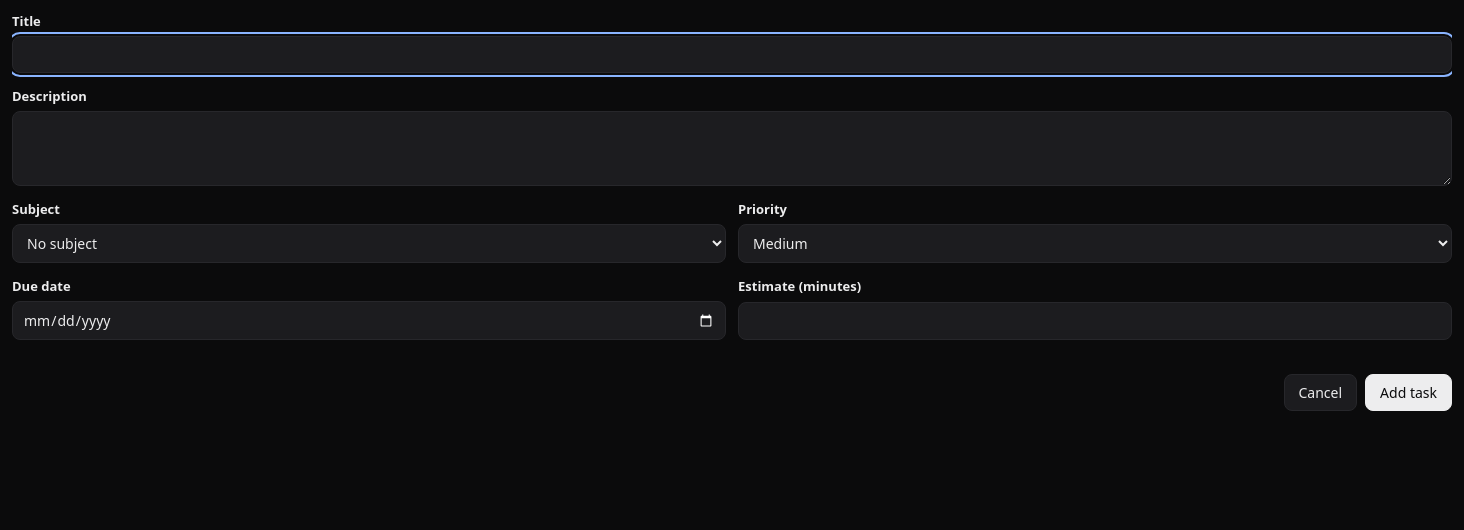
Test case: TaskForm: dependent subject/chapter dropdowns › explains when a subject has no chapters
This screenshot has width=1464, height=530.
Select "Empty subject" in the dropdown labelled "Subject" at [369, 244], box [12,224,726,263]
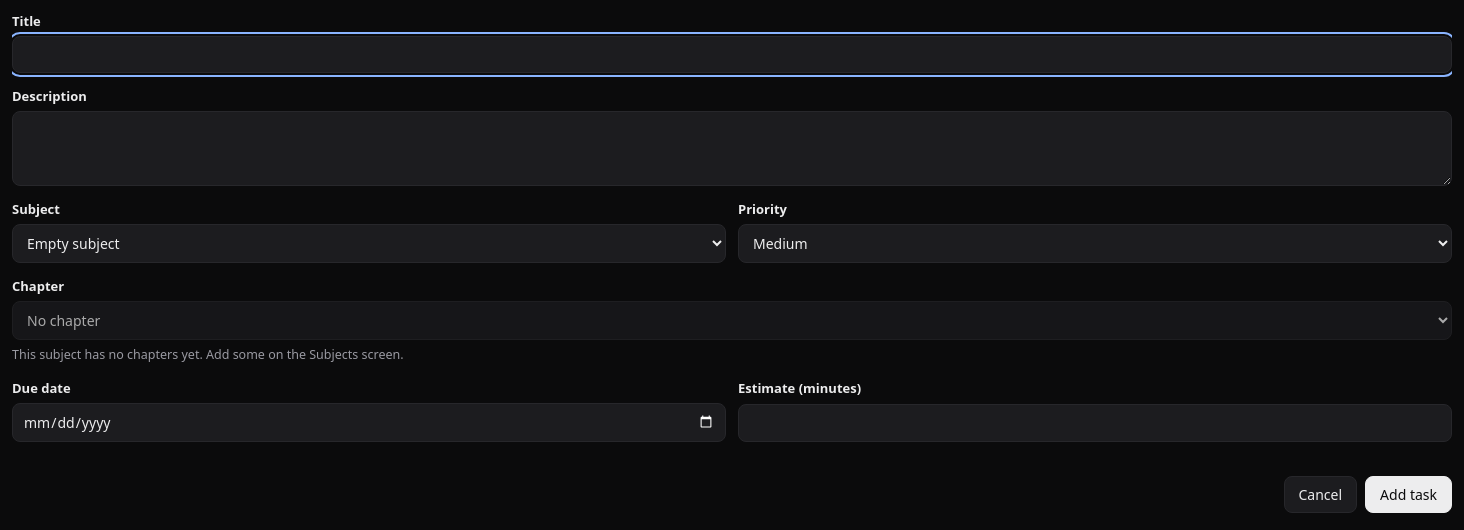
Result: the text "no chapters yet" is shown at [12,346,404,363]
Result: the dropdown labelled "Chapter" is disabled at [12,301,1452,340]
